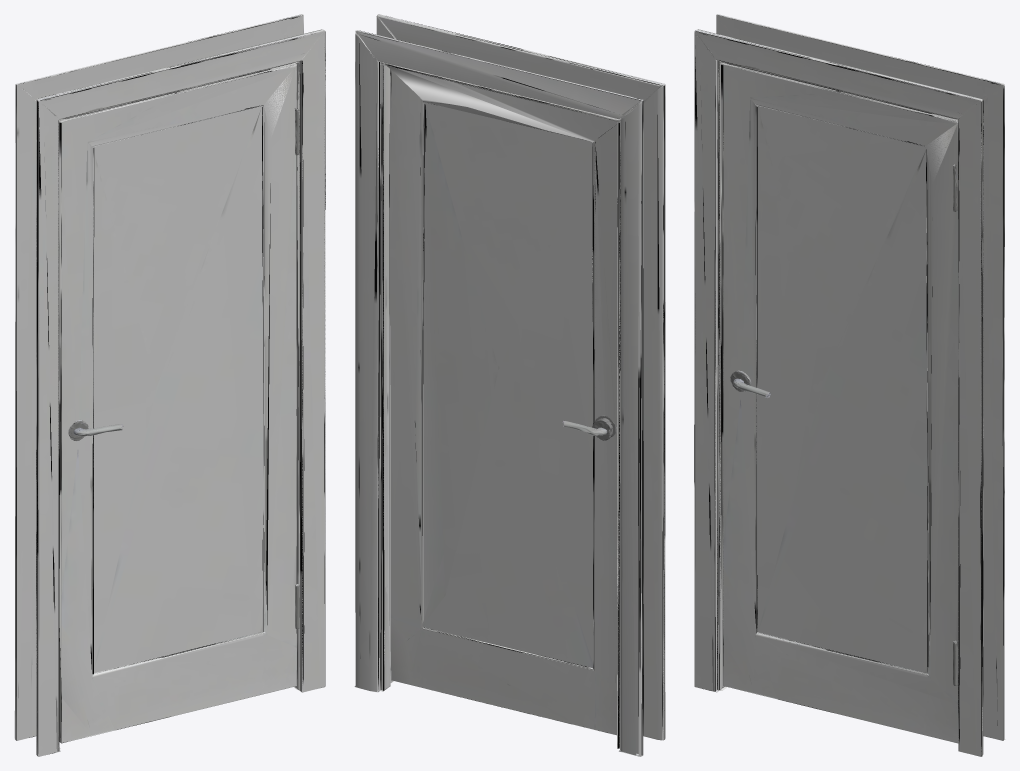
Rendered from desktop.glb.
3 views of the same model, side by side, from view 1: azimuth 30°, elevation 25°; view 2: azimuth 150°, elevation 25°; view 3: azimuth 330°, elevation 25° (orthographic).
Visible parts, largest first — view 1: door; view 2: door; view 3: door.
Boxes of the visible parts, x1=… form: door: x1=14, y1=14, x2=325, y2=756; door: x1=354, y1=14, x2=665, y2=756; door: x1=694, y1=14, x2=1005, y2=756.
Size of the model in its own units: 0.9628 by 2.1 by 0.188.
1 material, 1 textured.
